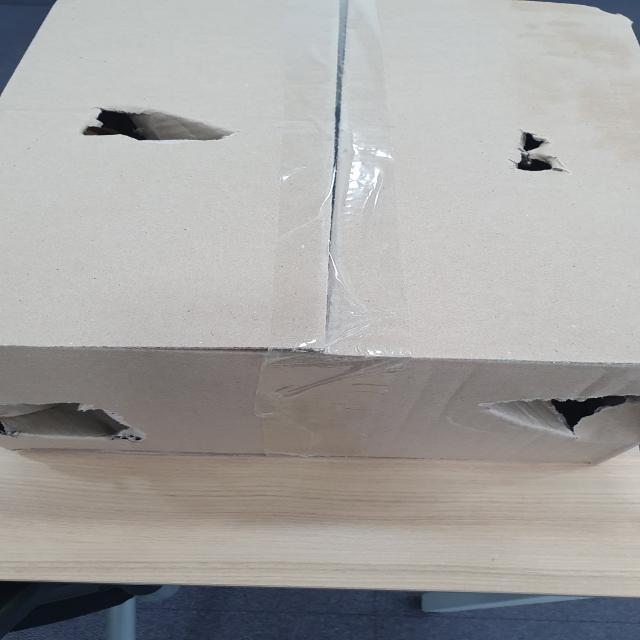hole: (467, 387, 640, 437), (0, 392, 151, 446), (82, 98, 236, 148), (507, 130, 579, 179)
